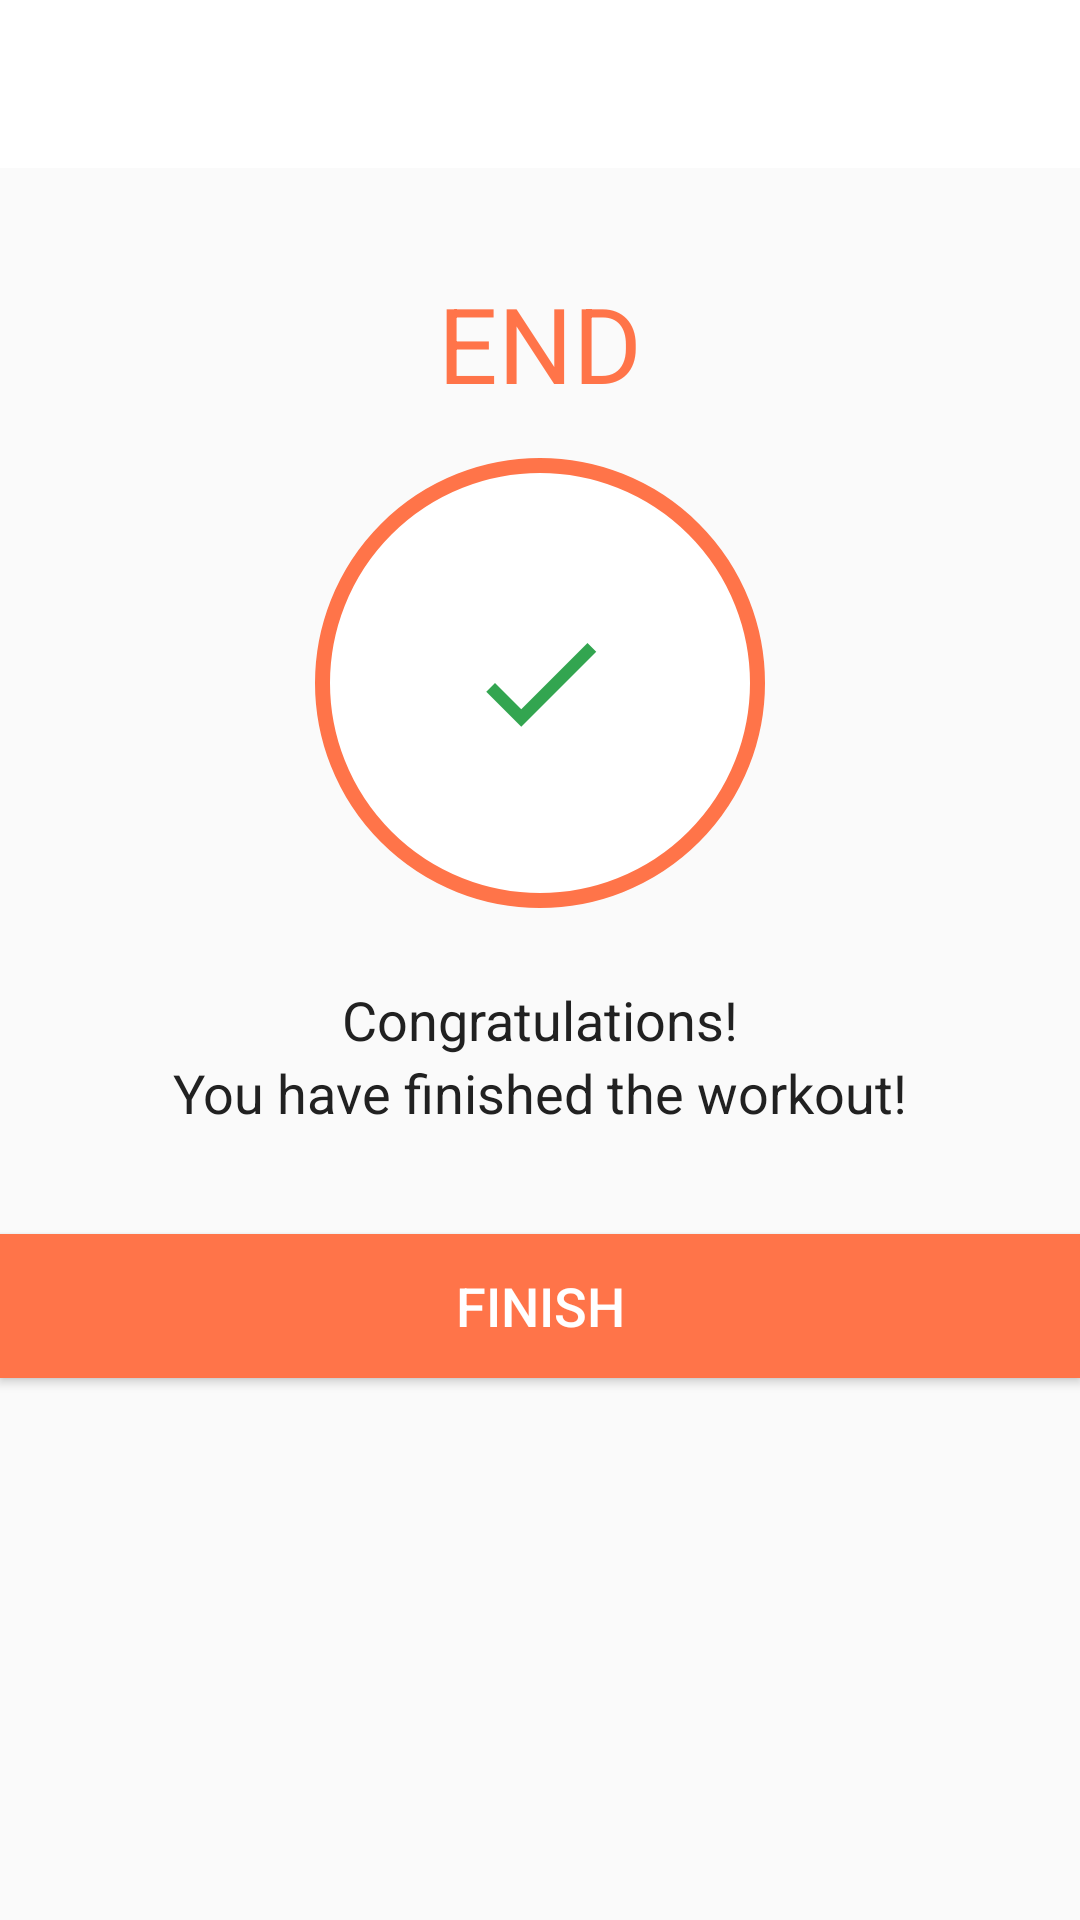

Icon bounding boxes for this 1080×1920 phone screenshot, format [x1, y1, x2, y2]:
done: [486, 643, 596, 727]
